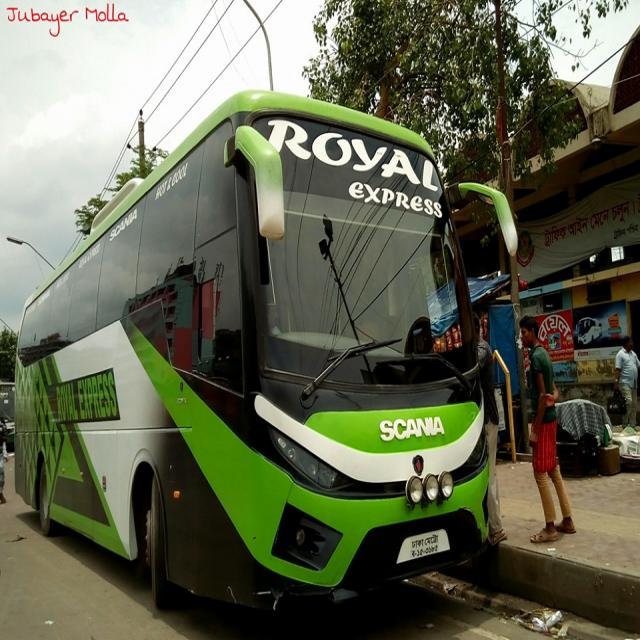bus: (12, 90, 521, 615)
